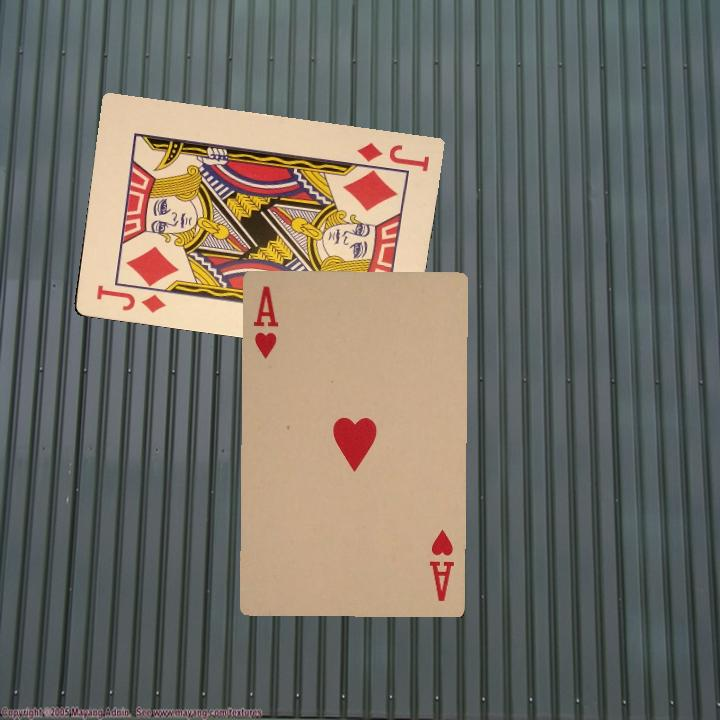Ah: (249, 282, 281, 361), (425, 525, 456, 604)
Jd: (347, 139, 432, 176), (92, 280, 167, 316)
